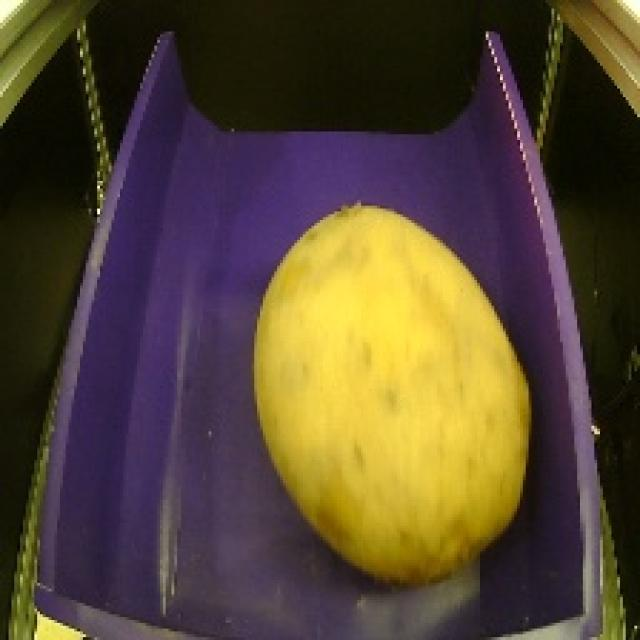full_potato: (245, 194, 543, 596)
